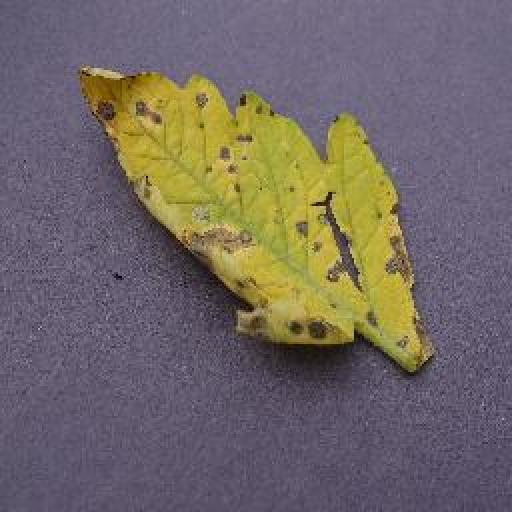Septoria: (77, 60, 436, 380)
